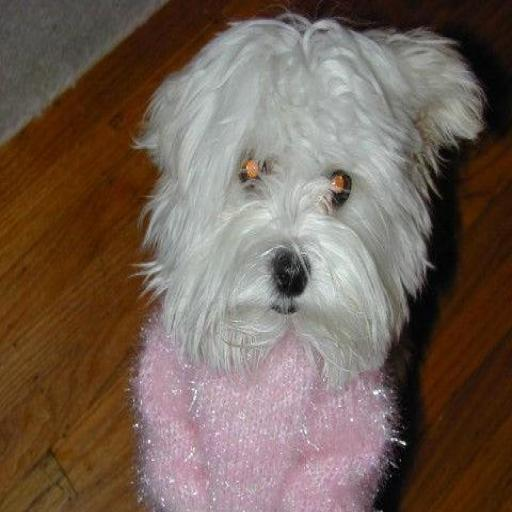dog_face: (156, 18, 461, 341)
